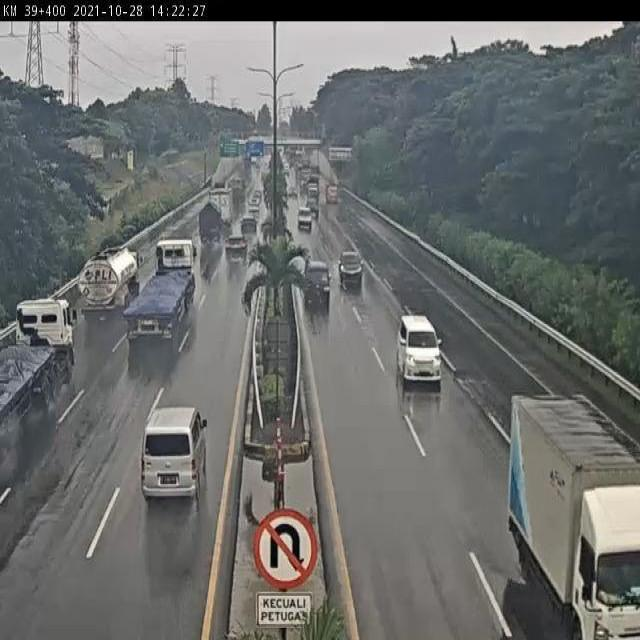big truck: (6, 298, 76, 406), (155, 236, 195, 327), (211, 185, 234, 223)
car: (142, 403, 207, 513), (390, 307, 446, 397), (300, 254, 332, 310), (335, 245, 367, 291), (294, 204, 315, 237), (224, 234, 248, 262), (239, 215, 264, 237), (247, 195, 262, 216), (251, 186, 264, 206)
small truck: (502, 381, 640, 640), (74, 243, 144, 312), (198, 204, 223, 248)
